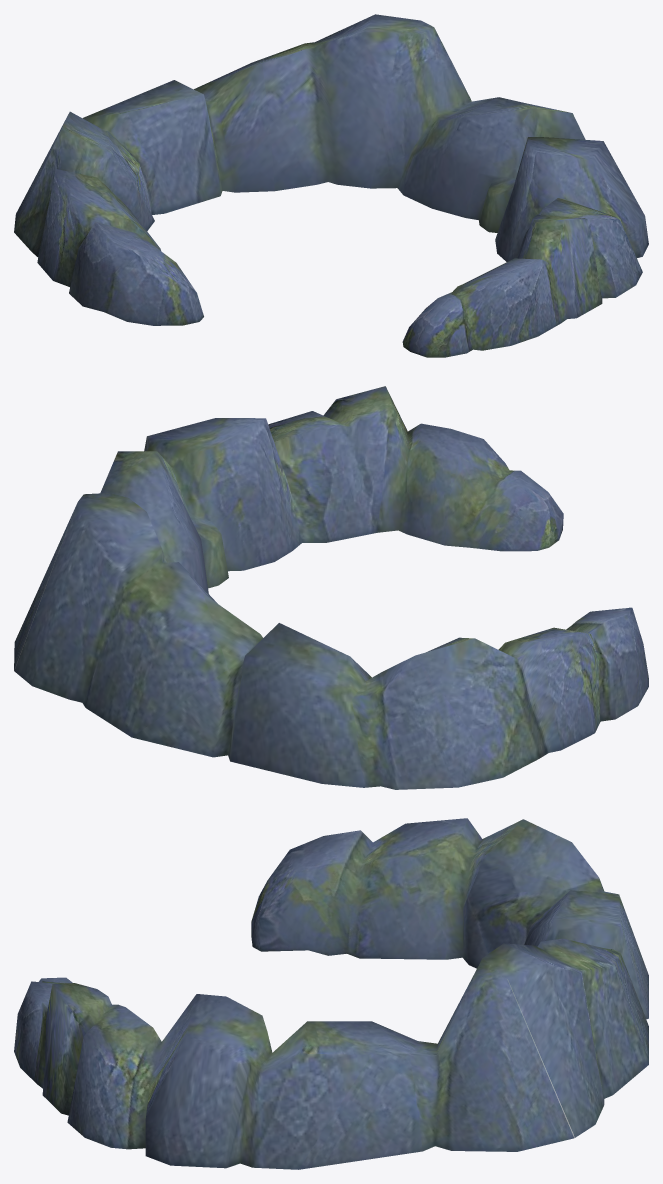
File: rock_ring_mossy.glb
3 renders of one model, top to bottom at view 1: azimuth 30°, elevation 25°; view 2: azimuth 150°, elevation 25°; view 3: azimuth 270°, elevation 25°, orthographic. The views are drawn at different scales.
Visible parts, largest first — view 1: tripo_node_89ea50b6-dd42-4bf1-af38-ec4dd53a9c59; view 2: tripo_node_89ea50b6-dd42-4bf1-af38-ec4dd53a9c59; view 3: tripo_node_89ea50b6-dd42-4bf1-af38-ec4dd53a9c59.
Part boxes in pixels (box(x1,y1,x2,y2)): tripo_node_89ea50b6-dd42-4bf1-af38-ec4dd53a9c59: box(14, 14, 648, 357); tripo_node_89ea50b6-dd42-4bf1-af38-ec4dd53a9c59: box(14, 386, 648, 789); tripo_node_89ea50b6-dd42-4bf1-af38-ec4dd53a9c59: box(14, 818, 648, 1169).
Bounding box in the file's own units: 0.998 × 0.2676 × 0.998.
1 material, 1 textured.
